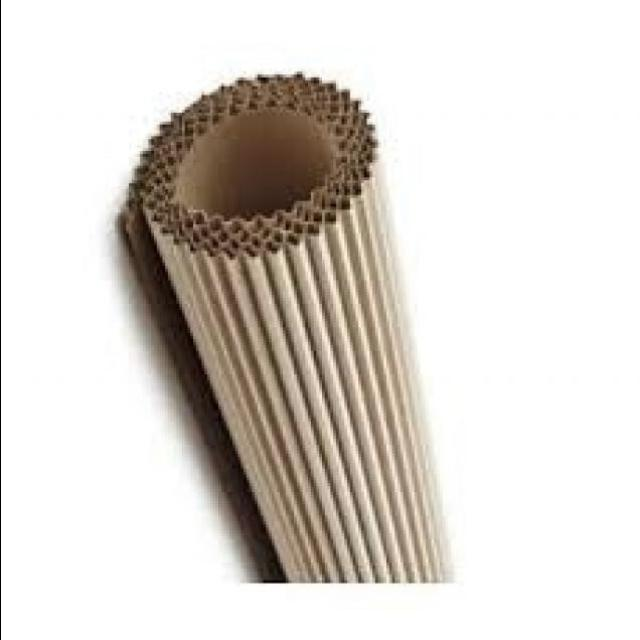cardboard paper: (137, 73, 451, 581)
